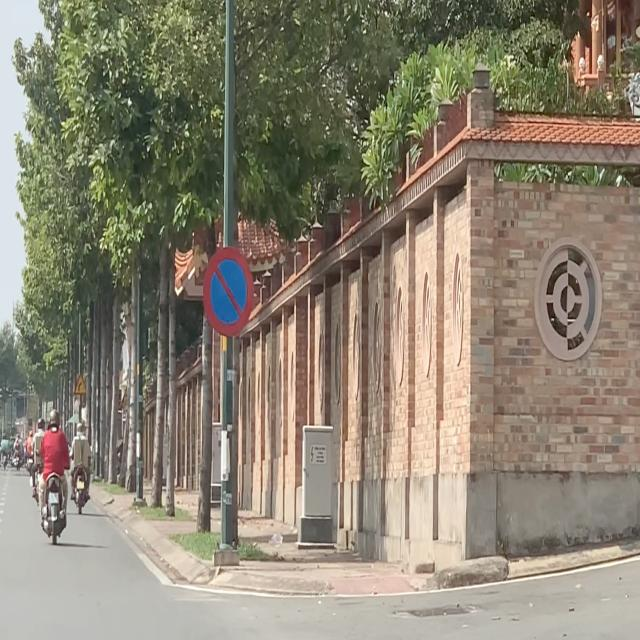Cam do: (199, 234, 257, 348)
Nguy hiem: (72, 376, 87, 399)
